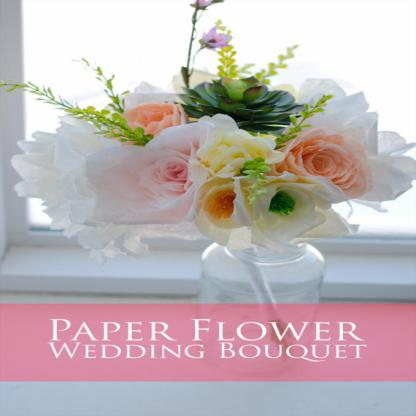vase: (201, 243, 325, 376)
